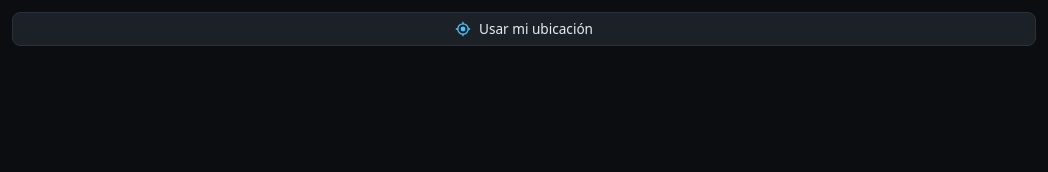
Scenario: LocateButton › muestra el error si el usuario niega el permiso
Click the button "Usar mi ubicación" at (524, 29), box x1=12 y1=12 x2=1036 y2=46
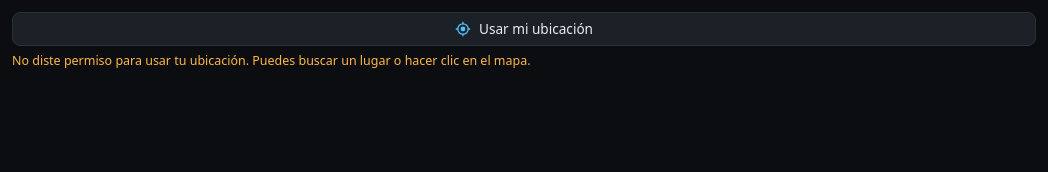
Expected: the message shows "No diste permiso", x1=12 y1=52 x2=530 y2=69
